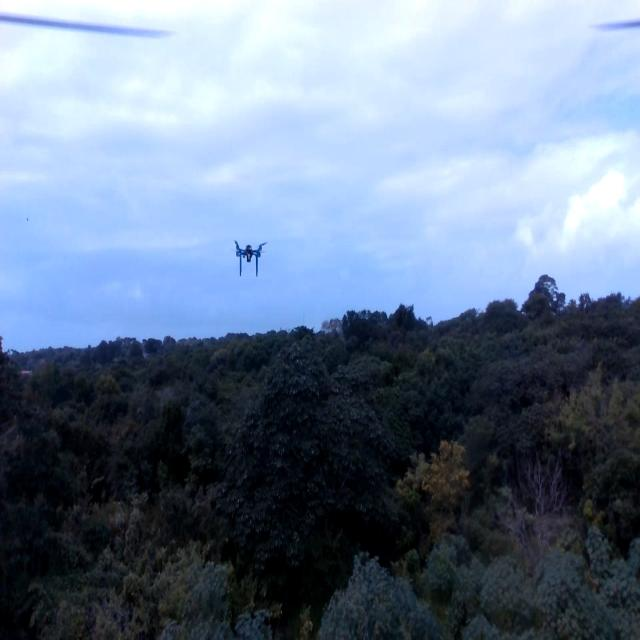-uav-: (228, 224, 268, 283)
